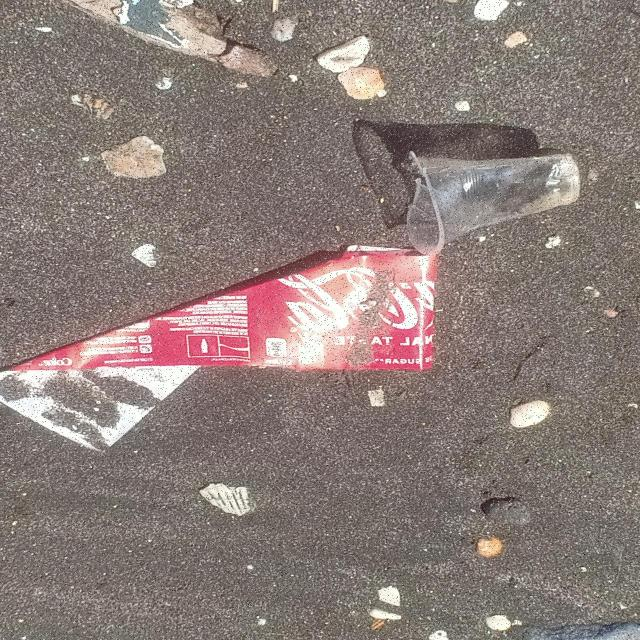plastic_waste: (1, 247, 441, 456), (404, 150, 584, 258)
